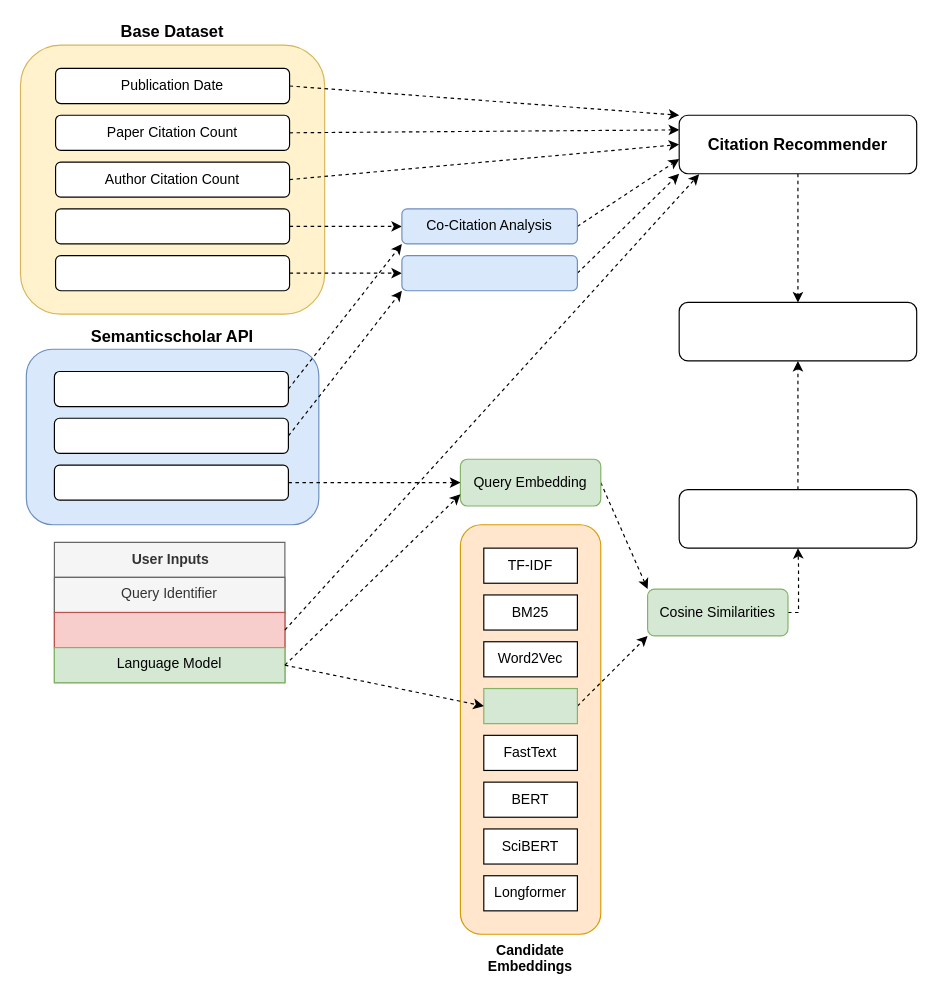
The diagram is 937 pixels wide and 996 high, and some of its shapes have lost their labels. The centre of each missing label's shape, as x and y in pixels:
"Bibliographic Coupling" goes at (x=489, y=272).
"Citations" goes at (x=172, y=226).
"Feature Weights" goes at (x=169, y=629).
"GloVe" goes at (x=530, y=705).
"Hybrid Recommender" goes at (x=797, y=331).
"Language Recommender" goes at (x=797, y=518).
"Query Abstract" goes at (x=170, y=482).
"Query Citations" goes at (x=170, y=388).
"Query References" goes at (x=170, y=435).
"References" goes at (x=172, y=272).
